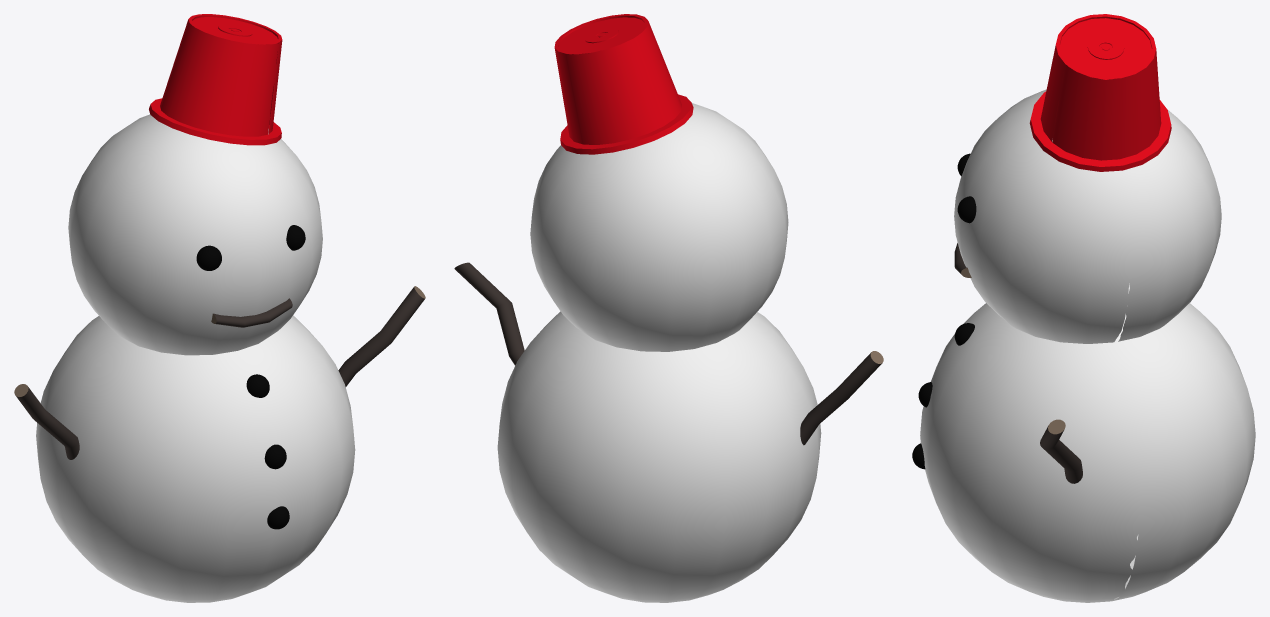
File: yukidaruma.fbx
3 renders of one model, left to right at view 1: azimuth 30°, elevation 25°; view 2: azimuth 150°, elevation 25°; view 3: azimuth 270°, elevation 25°, orthographic. The views are drawn at different scales.
Visible parts, largest first — view 1: body, head, baketu, L_arm, R_arm, mouth; view 2: body, head, baketu, L_arm, R_arm; view 3: body, head, baketu, L_arm.
Part boxes in pixels (x1,y1,x2,y2): body: (36, 315, 355, 602); head: (68, 114, 322, 355); baketu: (149, 14, 282, 145); L_arm: (338, 286, 425, 386); R_arm: (14, 384, 79, 459); mouth: (211, 298, 292, 327); body: (497, 311, 821, 602); head: (530, 103, 788, 351); baketu: (554, 14, 693, 154); L_arm: (454, 262, 524, 365); R_arm: (800, 351, 883, 445); body: (920, 283, 1255, 602); head: (954, 89, 1221, 343); baketu: (1029, 14, 1171, 171); L_arm: (1040, 419, 1082, 483).
Bounding box in the file's own units: 3.1 × 3.95 × 2.13.
Materials: 1 (1 with a texture image).
